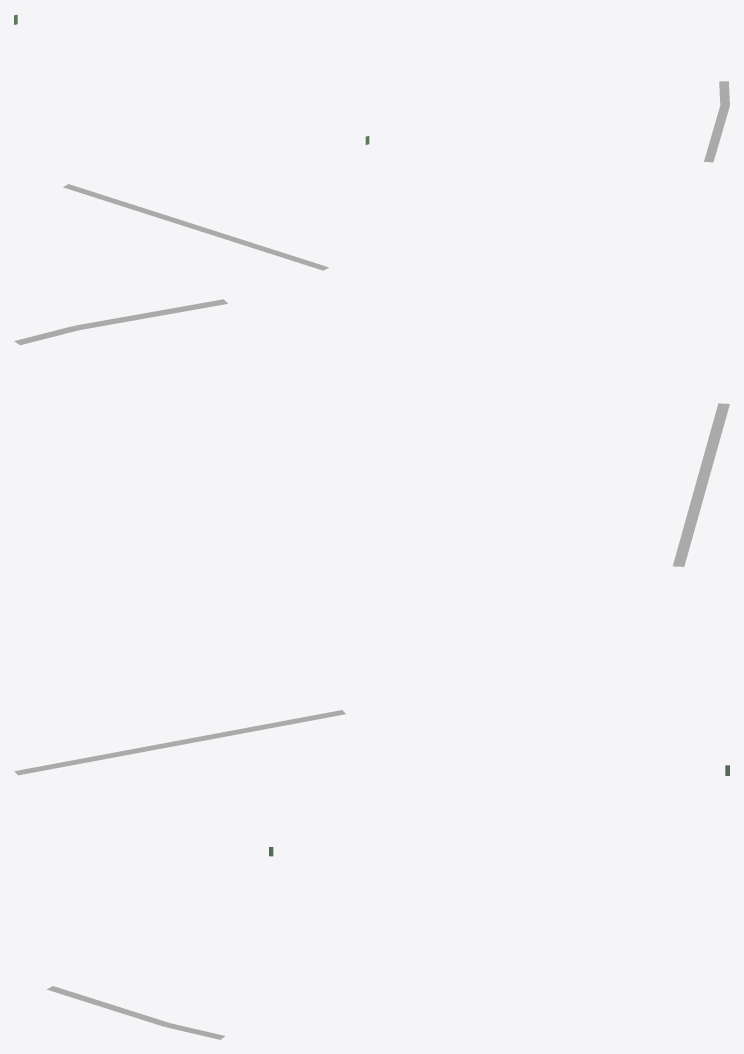
3 renders of one model, top to bottom at view 1: azimuth 30°, elevation 25°; view 2: azimuth 150°, elevation 25°; view 3: azimuth 270°, elevation 25°, orthographic. The views are drawn at different scales.
Bounding box in the file's own units: 509 × 11.99 × 470.
